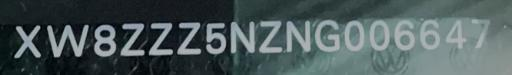letter: (43, 23, 91, 60), (226, 19, 258, 54), (12, 23, 42, 60), (118, 20, 146, 59), (146, 20, 174, 59), (312, 18, 342, 53), (256, 18, 284, 55), (442, 16, 470, 51), (284, 18, 312, 53), (175, 21, 203, 56), (92, 21, 118, 58), (342, 17, 366, 56), (468, 15, 494, 50), (418, 15, 442, 52), (367, 17, 391, 52), (392, 18, 416, 51), (204, 20, 226, 55)
